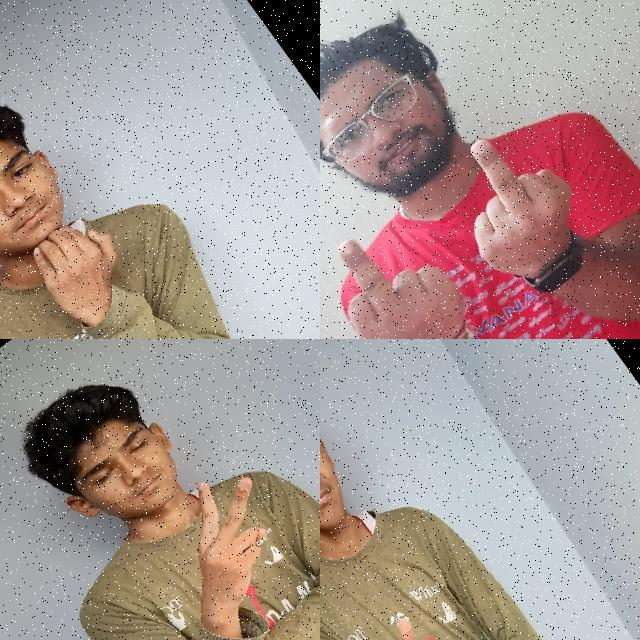Chin Flick: (0, 56, 166, 339)
Middle Finger: (412, 100, 618, 318), (320, 193, 516, 339), (345, 600, 493, 640)
Reversed Victory: (146, 450, 317, 628)
